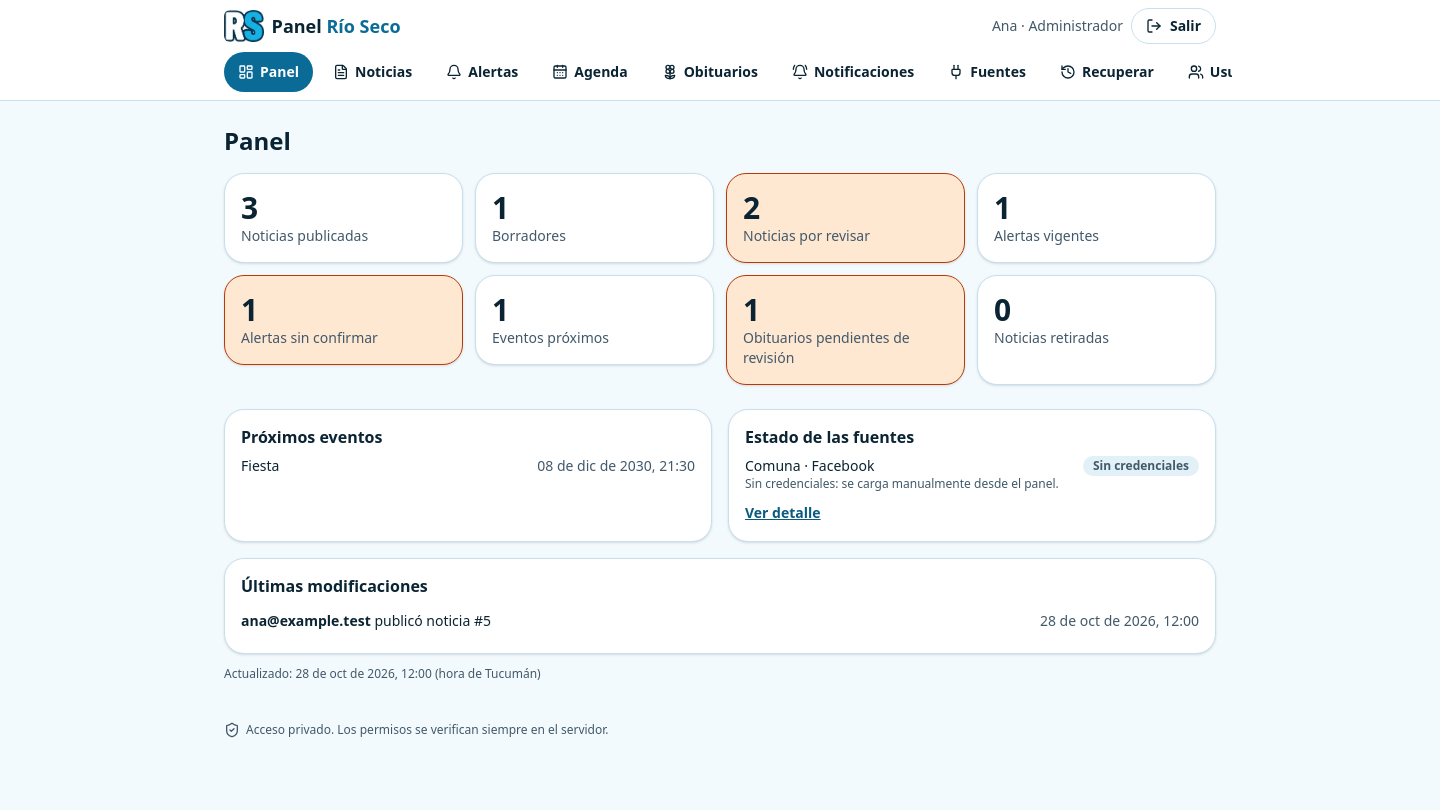
Test: acceso al panel › cerrar sesión vuelve al acceso
Click the button "Salir" at (1173, 26), box [1131,8,1216,44]
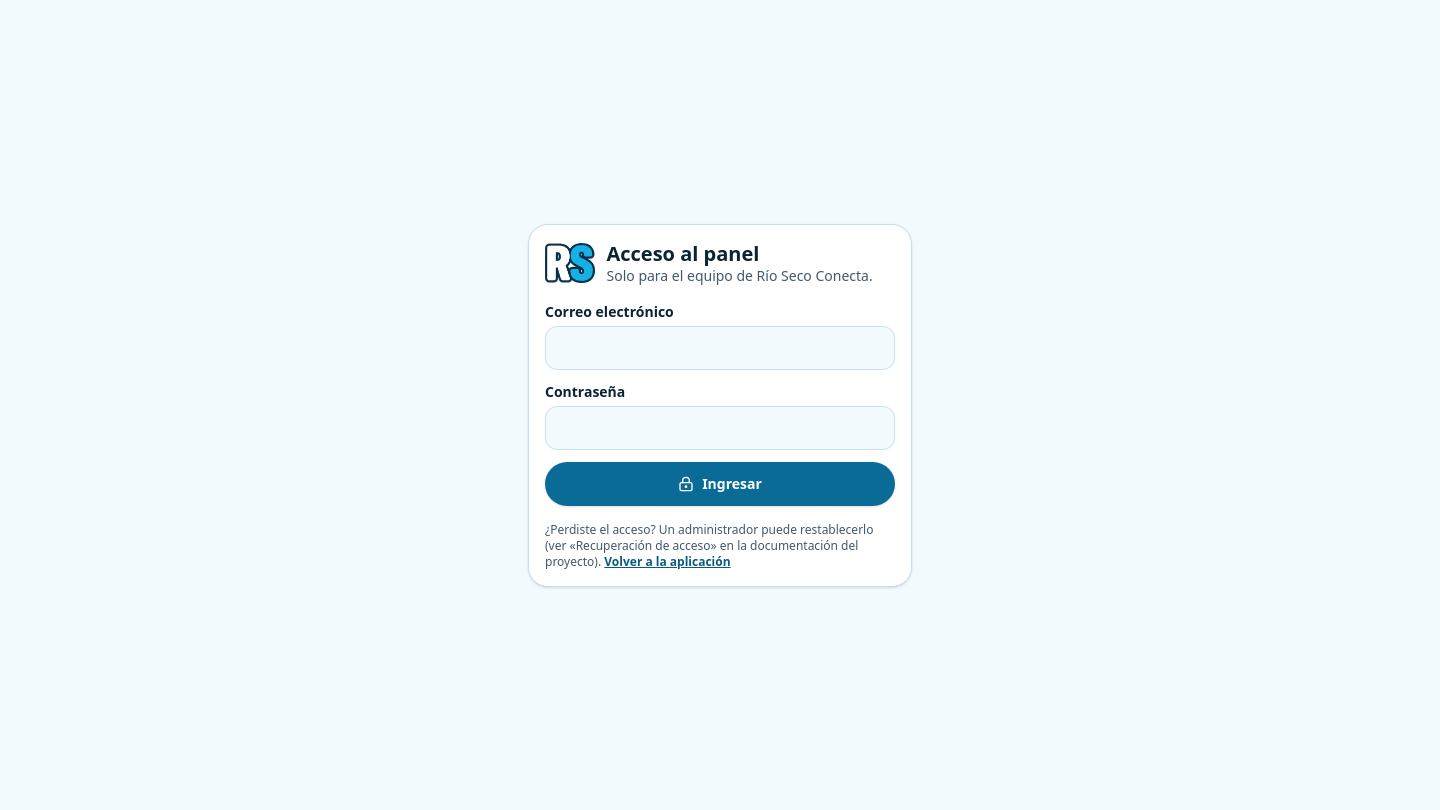
Now the heading "Acceso al panel" is shown, box [606,240,759,266]
